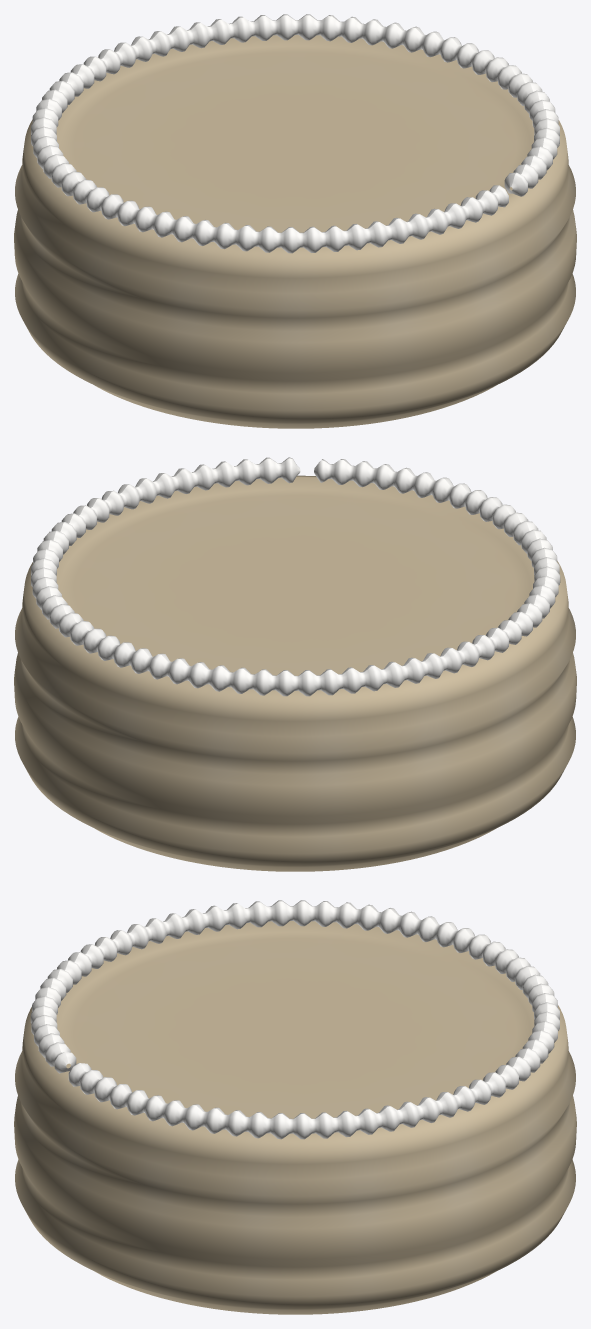
Rendered from cake.glb.
3 views of the same model, one above another, from view 1: azimuth 30°, elevation 25°; view 2: azimuth 150°, elevation 25°; view 3: azimuth 270°, elevation 25° (orthographic).
Bounding box in the file's own units: 0.2558 × 0.1022 × 0.2558.
